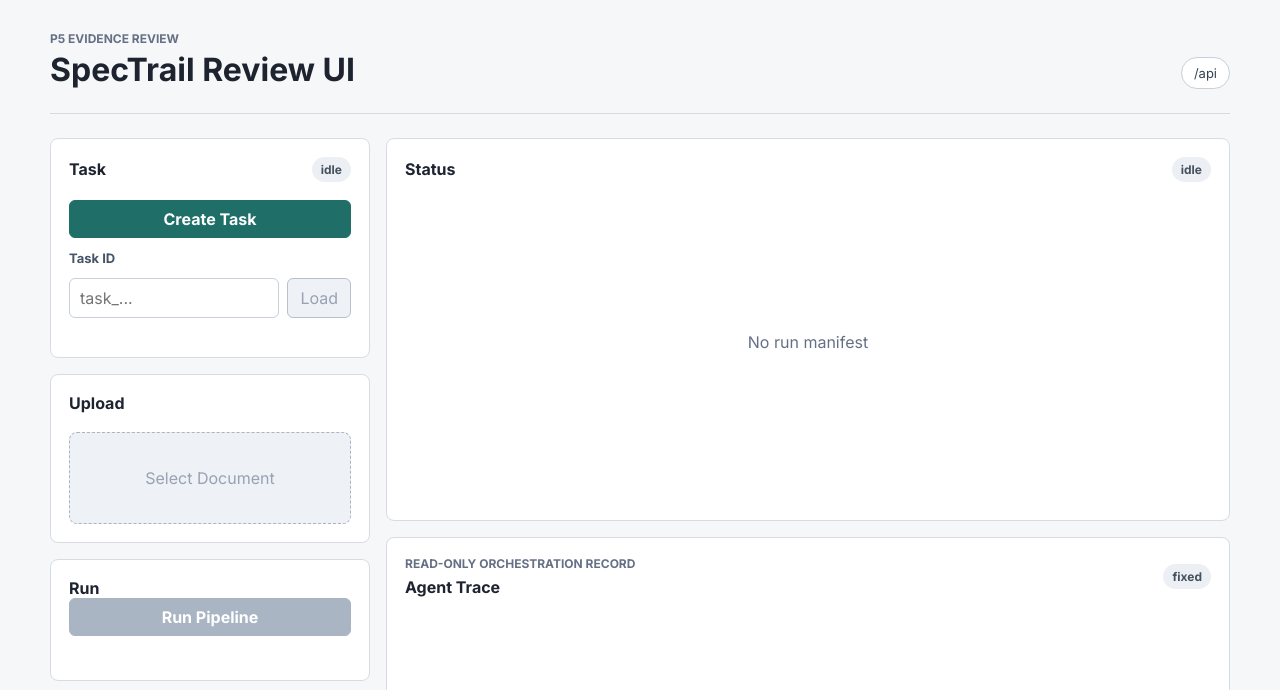
Test case: App pipeline run reconciliation › shows a reload action when a generation-bound export is stale
In the field labelled "Task ID": {"x": 174, "y": 298} [69,278,279,318], type "task-1"
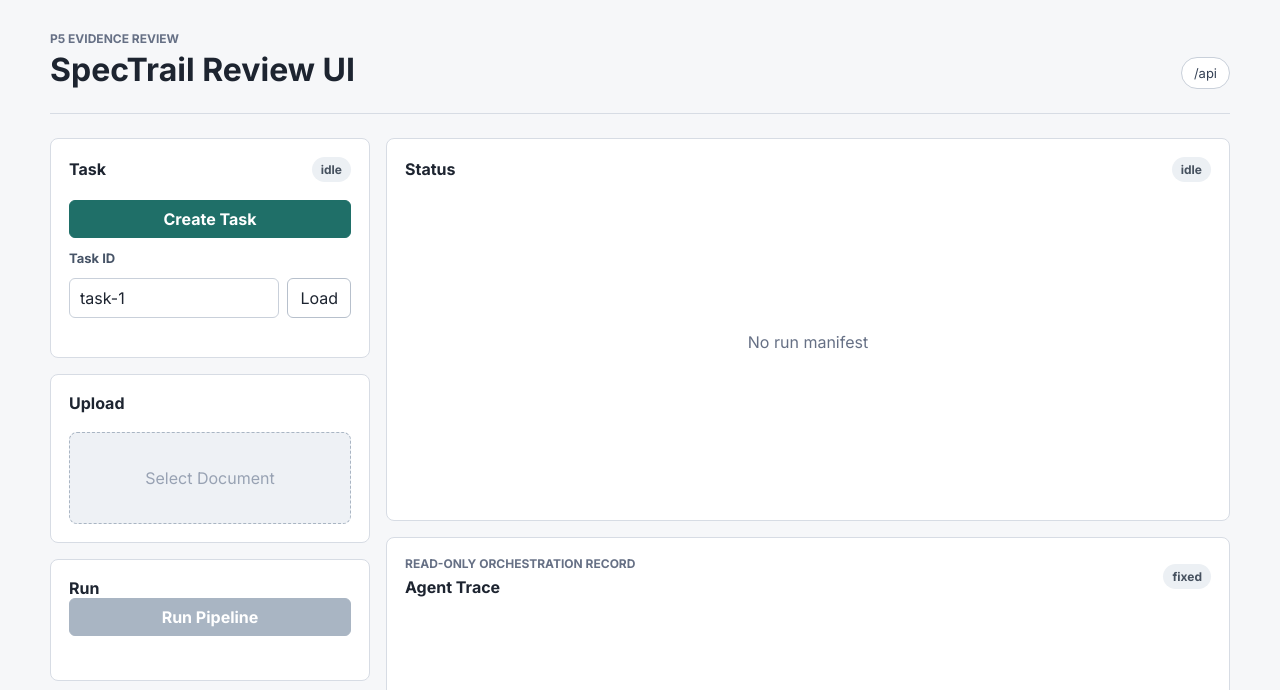
Click the button "Load": {"x": 319, "y": 298} [287,278,351,318]
(page scrolled)
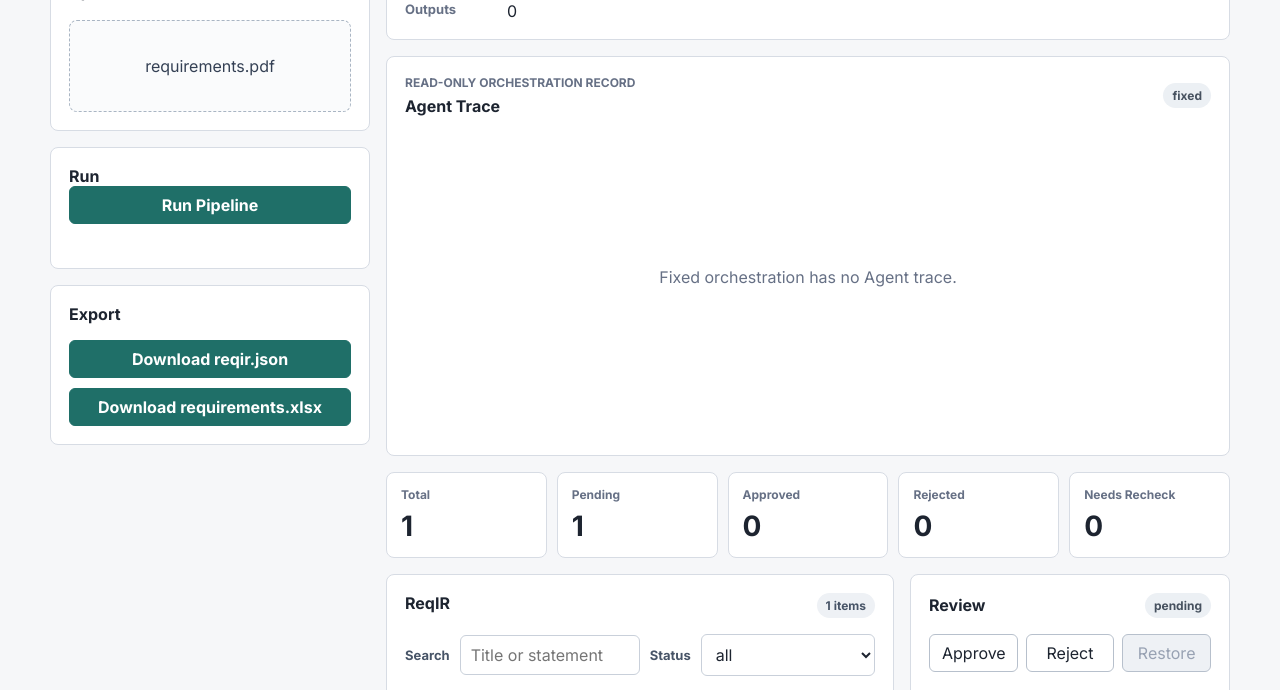
Click the button "Download reqir.json": {"x": 210, "y": 359} [69,340,351,378]
(page scrolled)
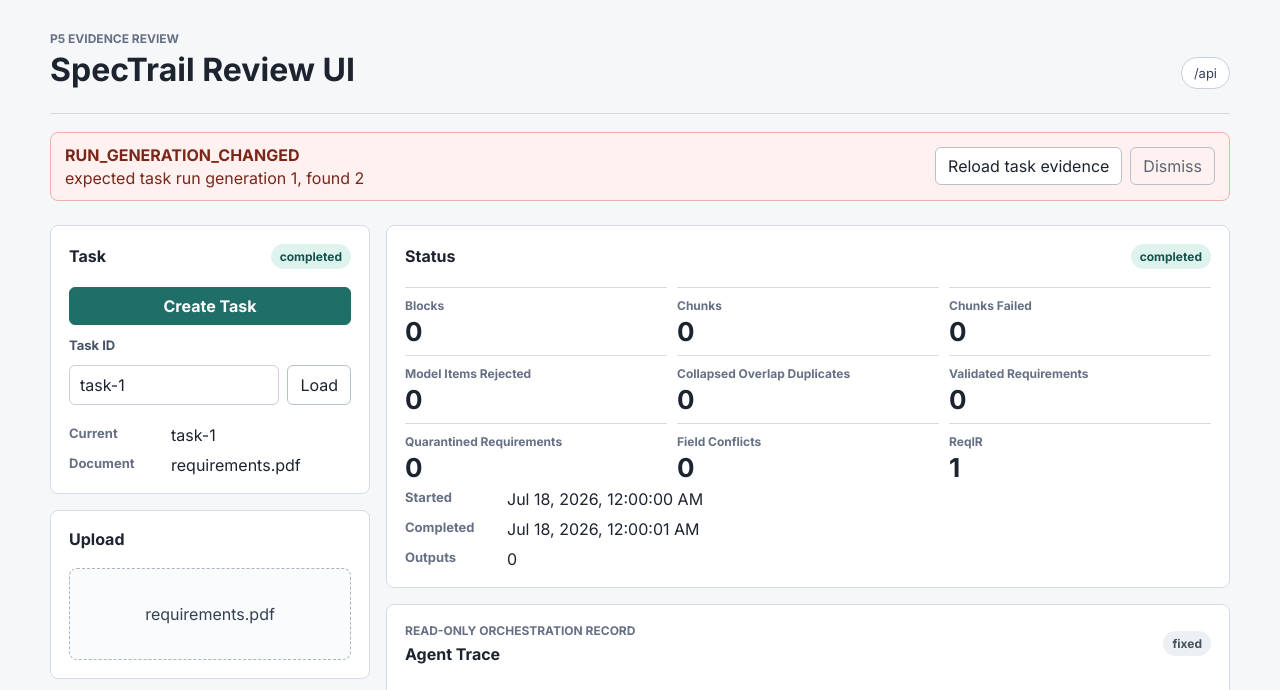
expect the message shows "RUN_GENERATION_CHANGED": met, box [65,145,300,165]
expect the button "Reload task evidence" is shown: met, box [935,147,1122,185]
